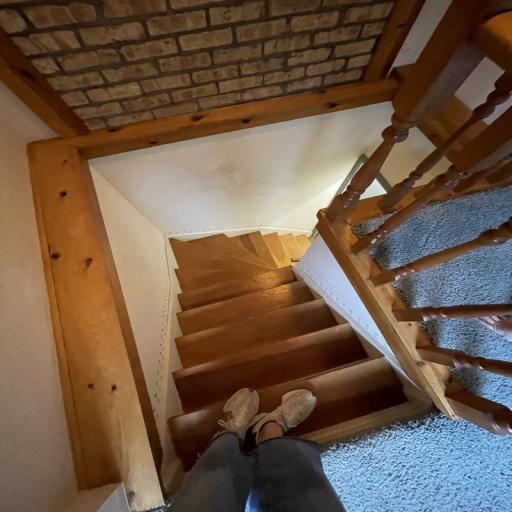laptop: (171, 388, 345, 511)
stairs: (170, 232, 427, 469)
